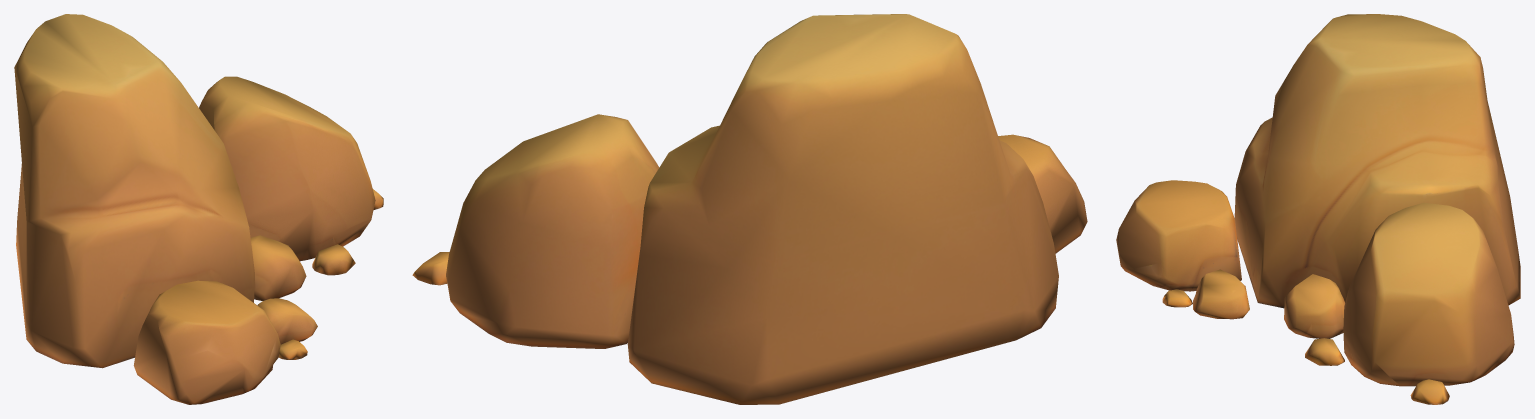
The model's file is rock+pile+3d+model.fbx.
3 renders of one model, left to right at view 1: azimuth 30°, elevation 25°; view 2: azimuth 150°, elevation 25°; view 3: azimuth 270°, elevation 25°, orthographic. The views are drawn at different scales.
Visible parts, largest first — view 1: meshes[0]; view 2: meshes[0]; view 3: meshes[0].
Boxes of the visible parts, x1,y1,x2,y2 form: meshes[0]: (14,14,383,404); meshes[0]: (412,14,1087,404); meshes[0]: (1116,14,1520,404).
Bounding box in the file's own units: 0.998 × 0.5449 × 0.9043.
1 material, 1 textured.
